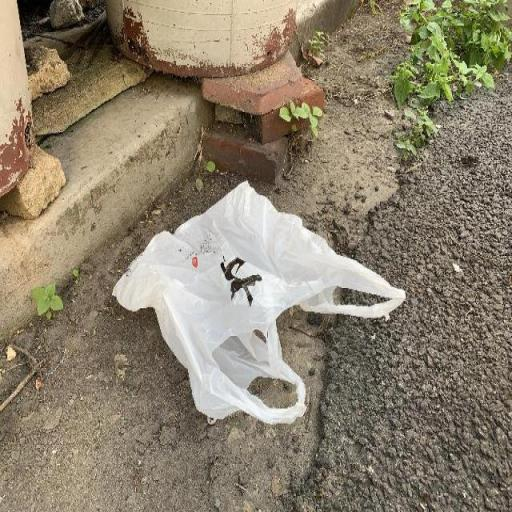plastic-bag: (108, 174, 407, 427)
